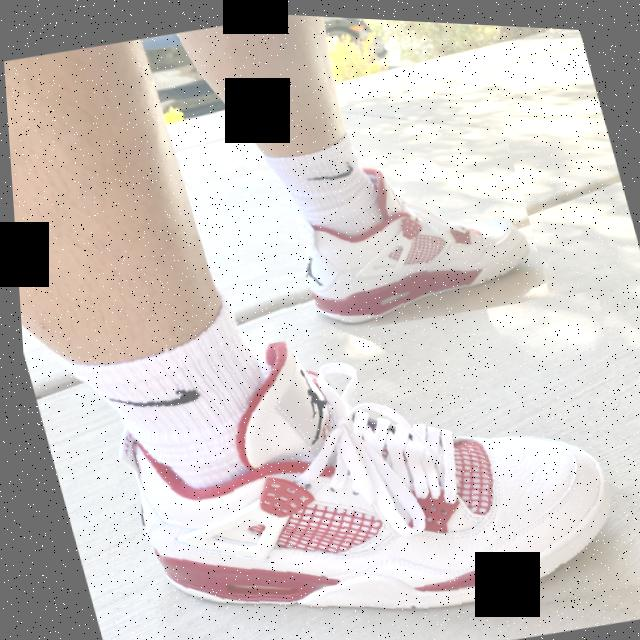shoe: (78, 262, 640, 640), (237, 118, 550, 353)
